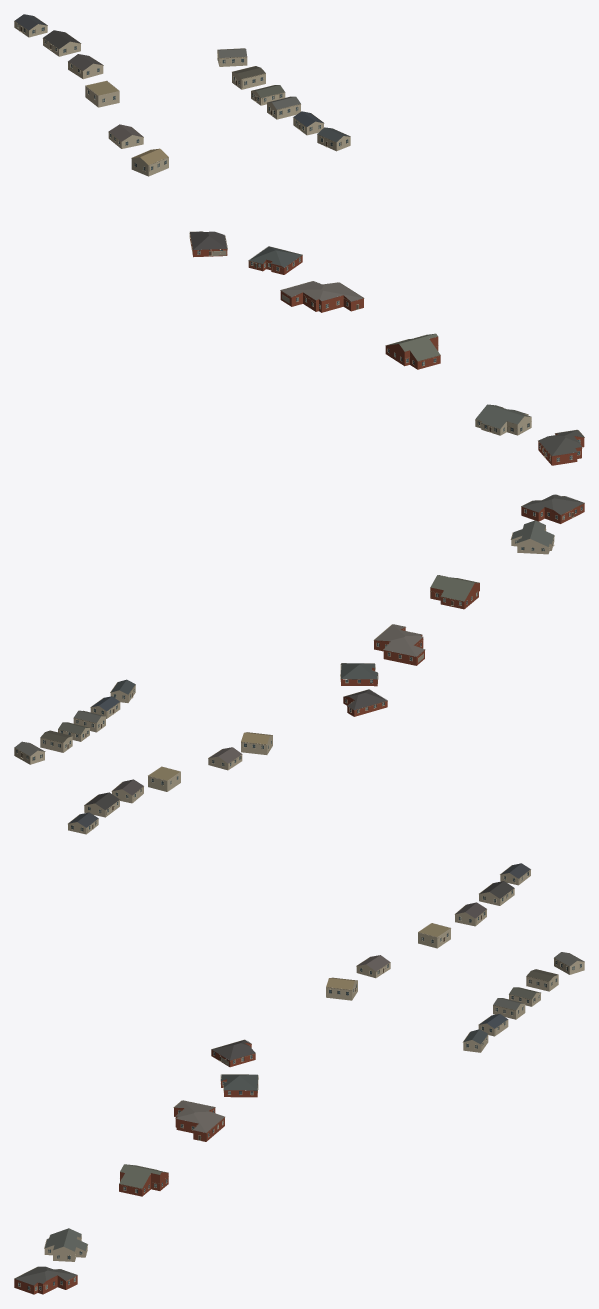
3 views of the same model, one above another, from view 1: azimuth 30°, elevation 25°; view 2: azimuth 150°, elevation 25°; view 3: azimuth 330°, elevation 25° (orthographic). The views are drawn at different scales.
Visible parts, largest first — view 1: -2_10_608377035_0, -2_10_608400207_28; view 2: -2_10_608377035_0, -2_10_608400207_28; view 3: -2_10_608377035_0, -2_10_608400207_28.
Boxes of the visible parts, <box> form: -2_10_608377035_0: <box>14,14,584,461</box>; -2_10_608400207_28: <box>190,236,584,465</box>; -2_10_608377035_0: <box>14,494,584,834</box>; -2_10_608400207_28: <box>341,503,584,716</box>; -2_10_608377035_0: <box>14,863,584,1290</box>; -2_10_608400207_28: <box>14,1042,257,1294</box>.
Bounding box in the file's own units: 111 × 29 × 460.
